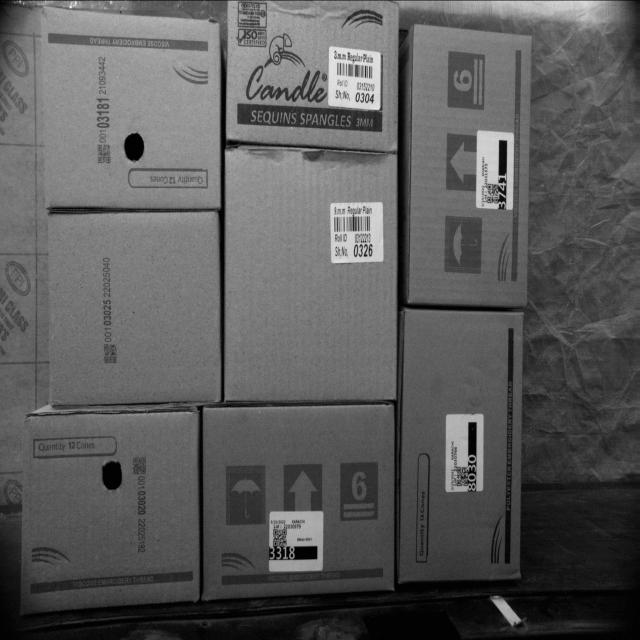cardboxes: (225, 146, 399, 403), (21, 413, 201, 618), (202, 404, 395, 592), (46, 209, 223, 403), (44, 12, 220, 204), (399, 306, 520, 584), (412, 20, 527, 307), (227, 0, 400, 152)
